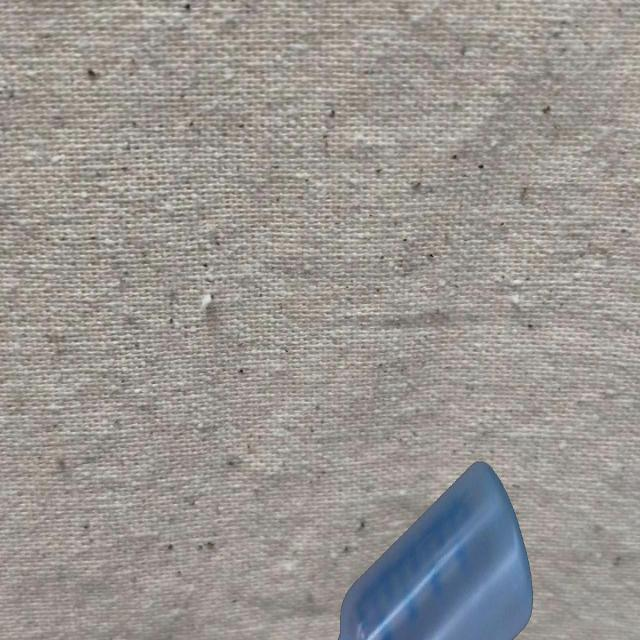bottle: (328, 459, 533, 640)
